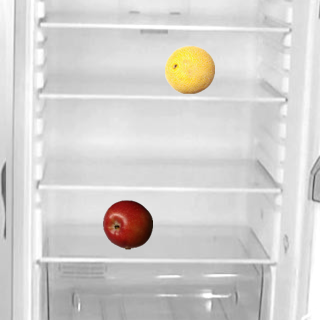Apple Braeburn: (102, 199, 152, 249)
Cantaloupe 1: (164, 44, 214, 94)
